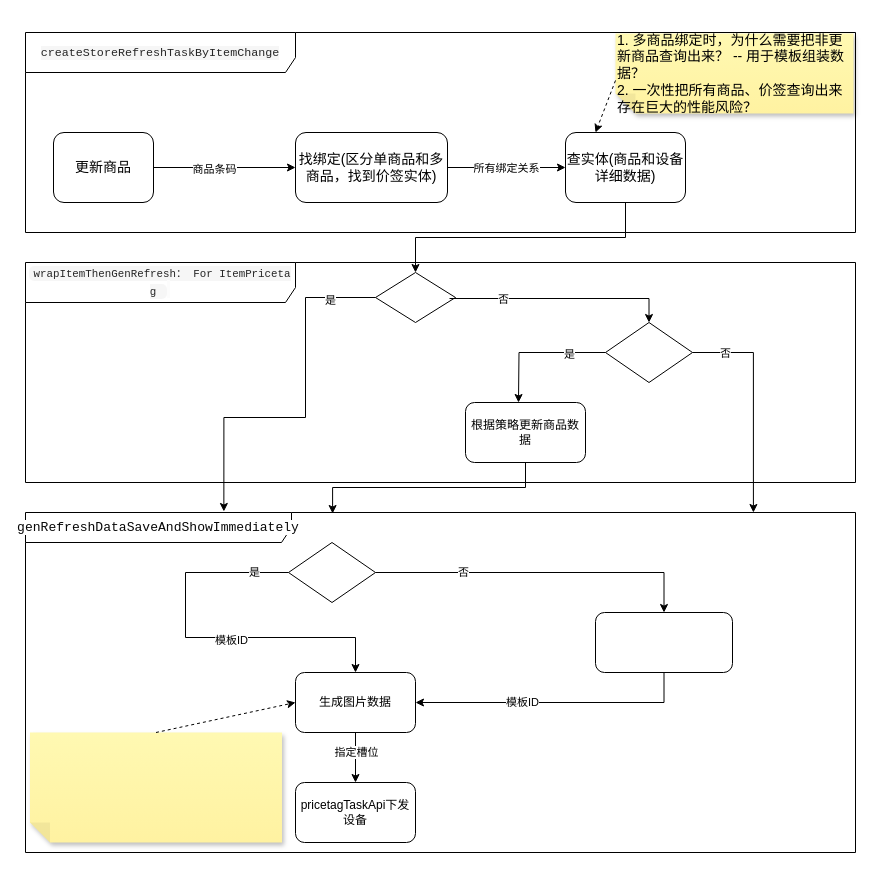
Some shapes in this 876 by 870 pixel diagram are drawn without their labels. The shapes that lost their labels are listed below. From the top down, each one's centre as x and y in pixels, then its label:
the point at 415,297: 是否多商品
the point at 648,352: 是否策略活动
the point at 332,572: 是否指定 模板刷图
the point at 663,642: 设备分辨率/颜色/尺寸 情景编号 商品模板分类/模板属性
the point at 157,788: 1. DrawTemplateUtil. templateAllGenerateBufferedImage生成 模板数据 - 使用Util是否合适？
